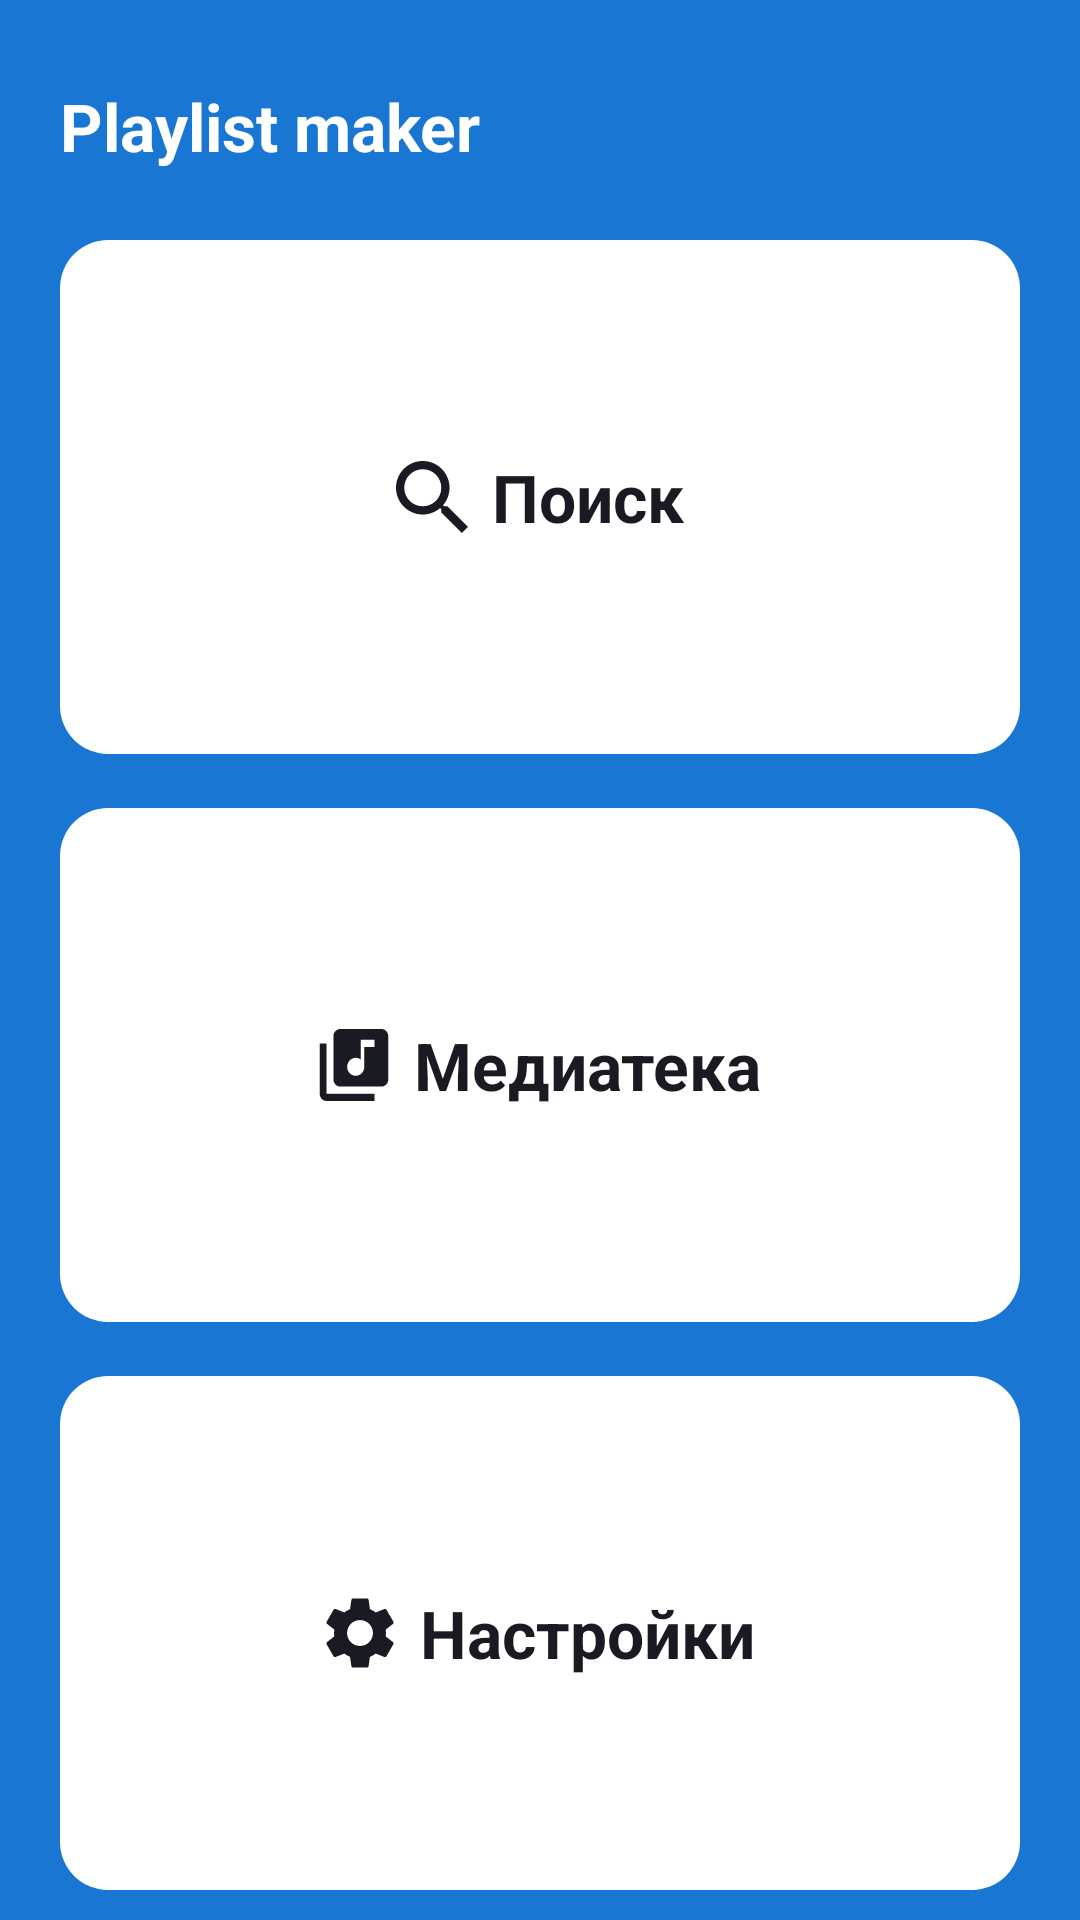

Named icons in this screenshot (1080px×1920px) and their centers, (x,y):
library: (354,1065)
search: (432,497)
setting: (360,1633)
